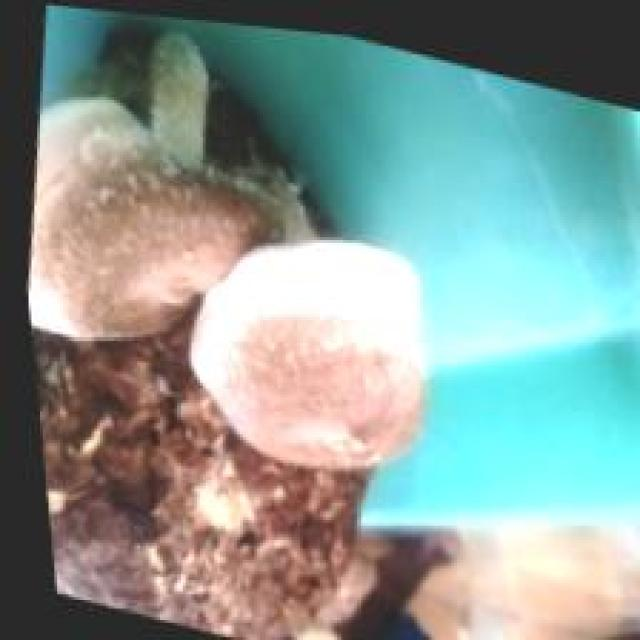chanterelle: (26, 23, 426, 637)
death-cap: (185, 234, 428, 472)
